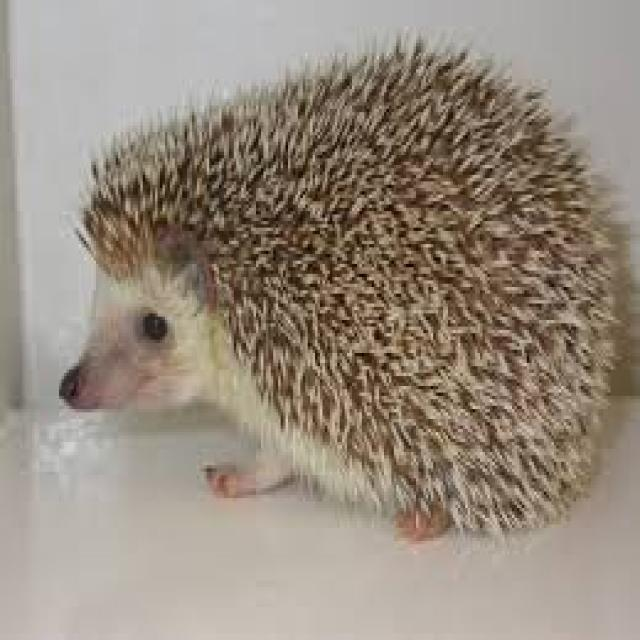Hedgehog: (58, 31, 636, 534)
